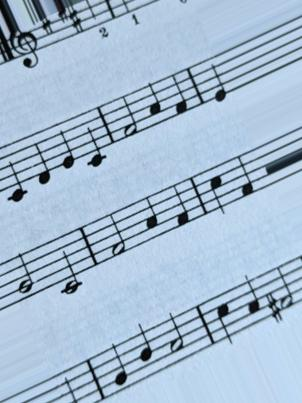note: (79, 111, 111, 171), (4, 142, 31, 209), (106, 339, 134, 396), (134, 320, 158, 382), (214, 291, 238, 350), (31, 129, 54, 190), (207, 51, 231, 107), (141, 191, 164, 247), (243, 271, 264, 332), (207, 166, 230, 220), (170, 179, 193, 232), (57, 121, 78, 174), (145, 77, 164, 134), (235, 152, 257, 199), (171, 70, 191, 120)
